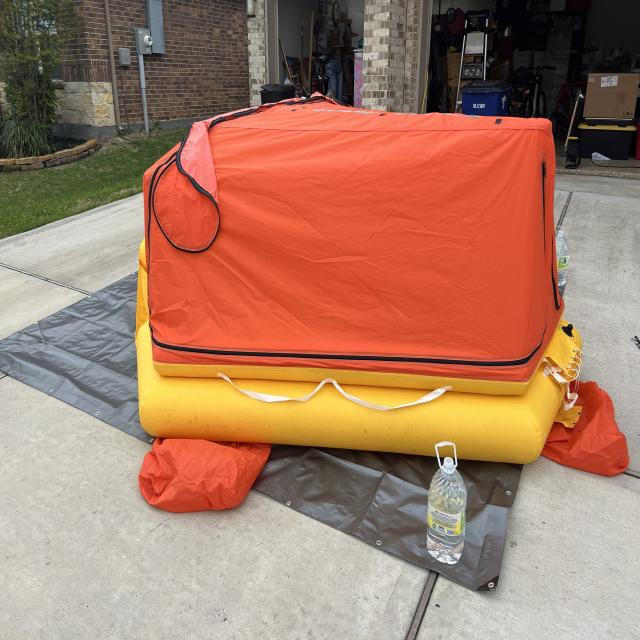Multi-person_life_raft: (134, 93, 630, 513)
